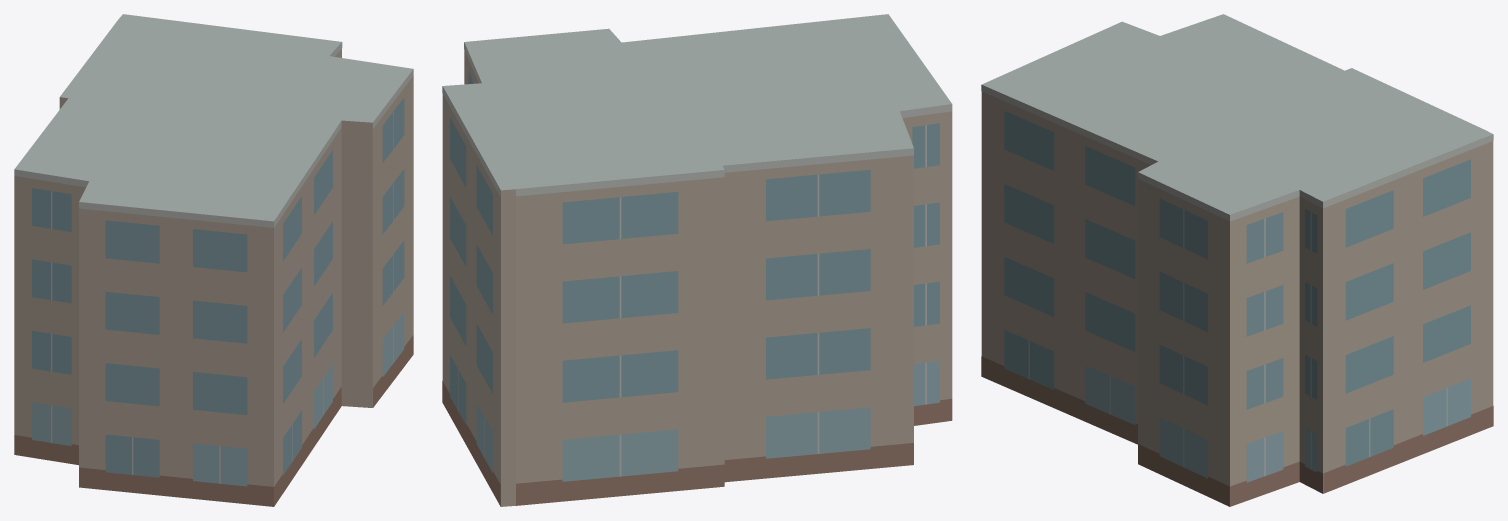
The model's file is survey-upis-32605847.glb.
3 views of the same model, side by side, from view 1: azimuth 30°, elevation 25°; view 2: azimuth 150°, elevation 25°; view 3: azimuth 270°, elevation 25° (orthographic). The views are drawn at different scales.
Visible parts, largest first — view 1: survey-upis-32605847.tmp; view 2: survey-upis-32605847.tmp; view 3: survey-upis-32605847.tmp.
Part boxes in pixels (x1,y1,x2,y2): survey-upis-32605847.tmp: (14,14,413,506); survey-upis-32605847.tmp: (442,14,952,506); survey-upis-32605847.tmp: (981,14,1493,506).
Size of the model in its own units: 15.72 by 10.65 by 16.93.
